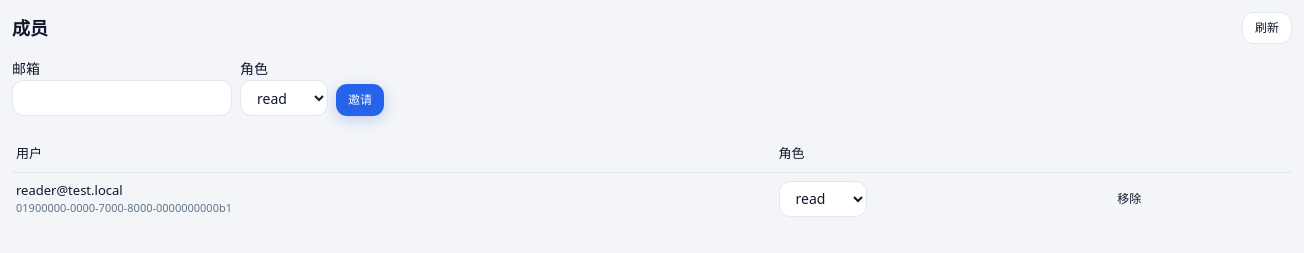
Test: MembersWorkspace › 有码可改角色并刷新列表
Step 1. Select "write" in the dropdown named "成员角色 reader@test.local" → x=822, y=198, box [778, 180, 866, 216]
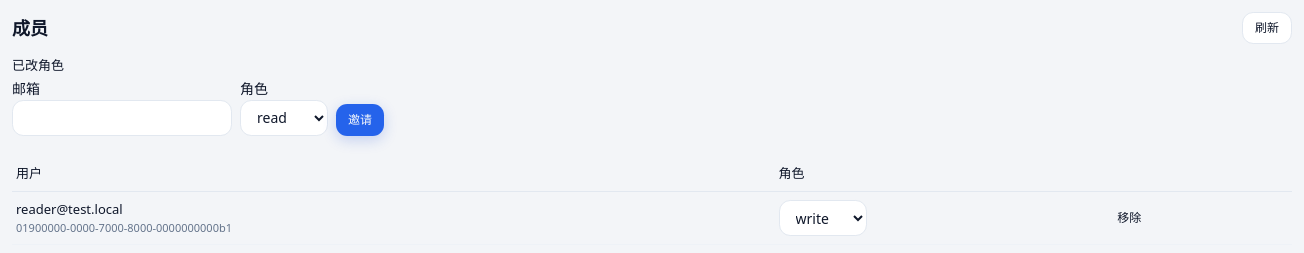
Expected: the text "已改角色" is shown, [12, 56, 64, 74]
